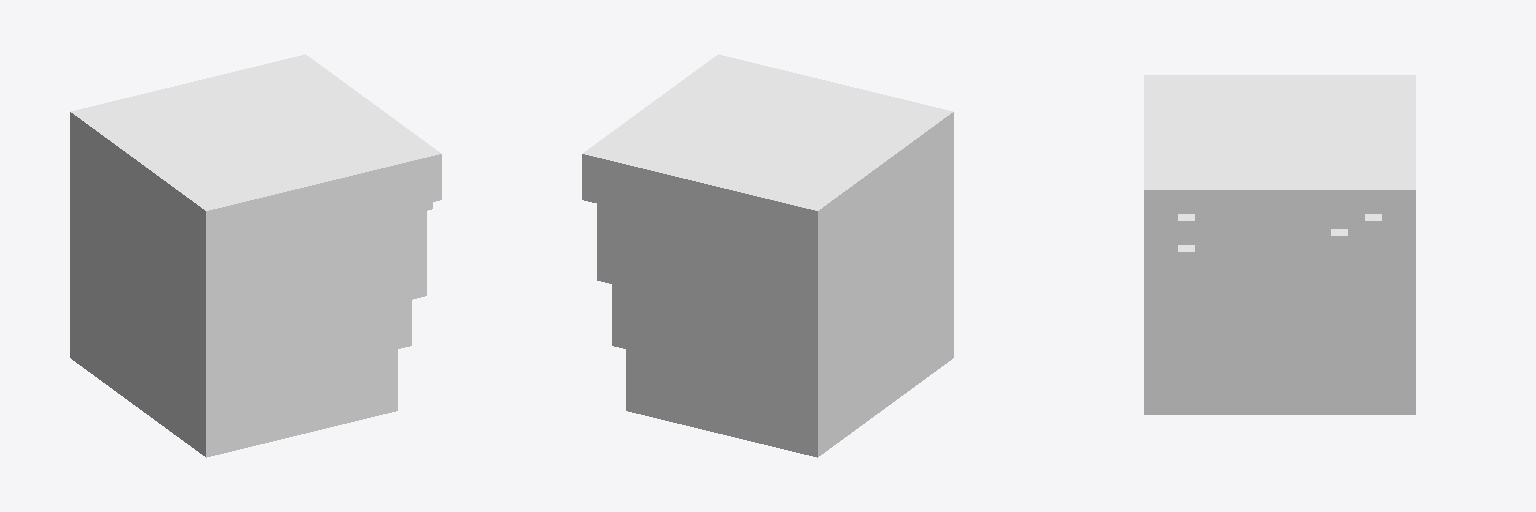
The model's file is WinterGrass-21.obj.
3 views of the same model, side by side, from view 1: azimuth 30°, elevation 25°; view 2: azimuth 150°, elevation 25°; view 3: azimuth 270°, elevation 25° (orthographic).
Parts seen in each view (by area): view 1: object 1; view 2: object 1; view 3: object 1.
Part boxes in pixels (x1,y1,x2,y2): object 1: (70, 54, 441, 457); object 1: (582, 54, 953, 457); object 1: (1144, 75, 1415, 414).
Size of the model in its own units: 1.6 by 1.6 by 1.6.